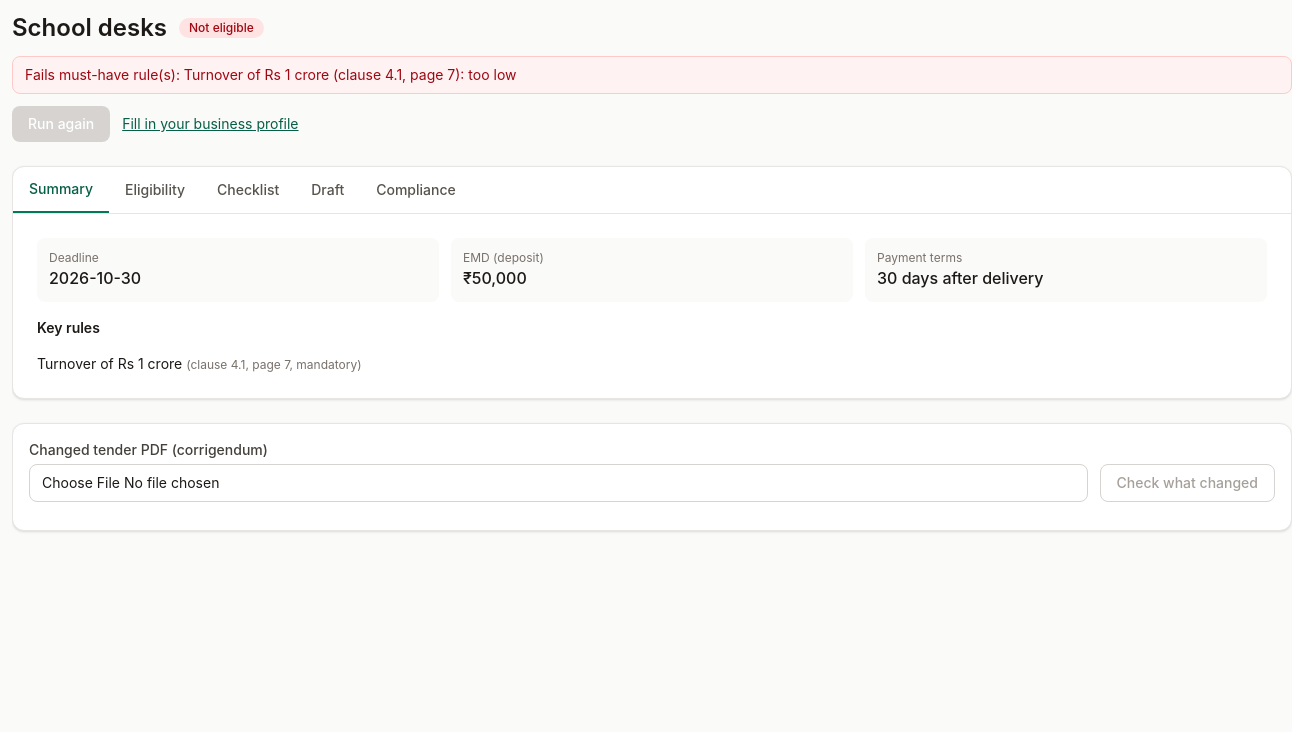
Test: shows why a run stopped and that there is no draft
Expected: the message shows "Fails must-have rule(s): Turnover of Rs 1 crore", [25, 66, 516, 83]
Click the tab "Draft": (328, 190) [295, 167, 360, 213]
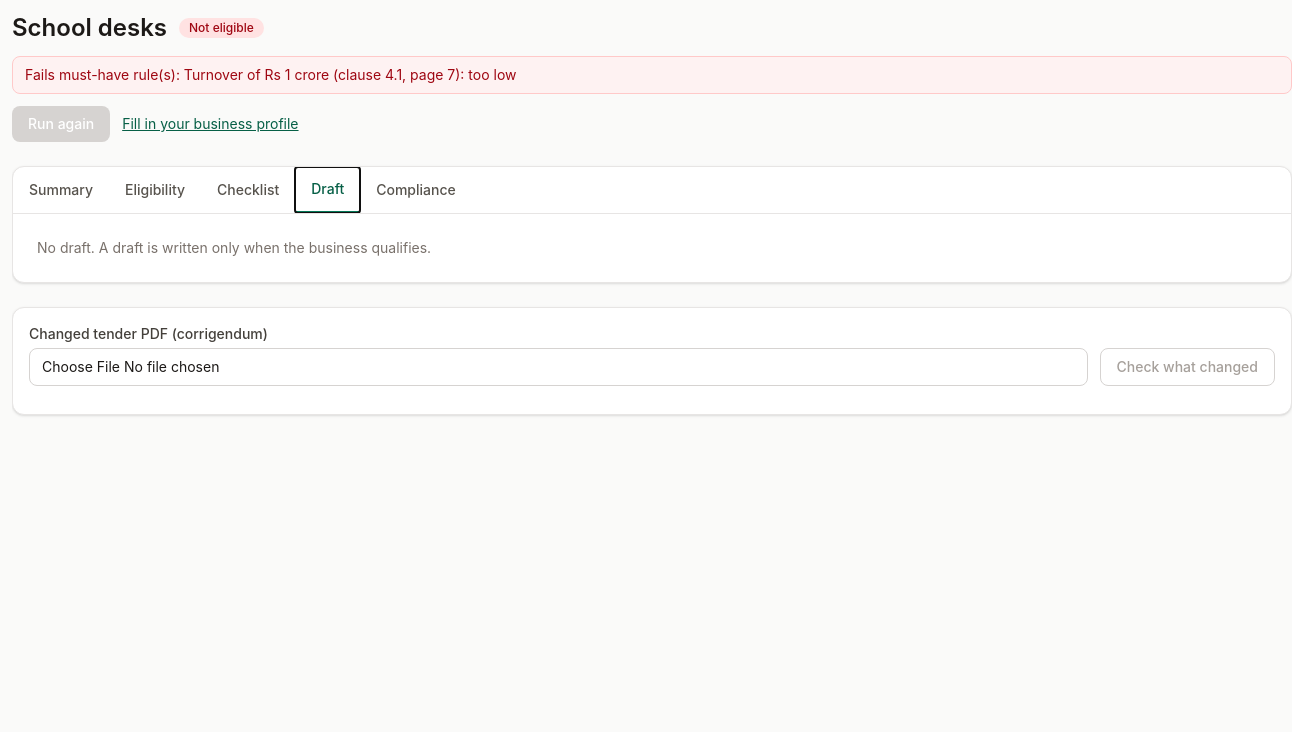
Expected: the text "No draft" is shown, [37, 239, 431, 256]
